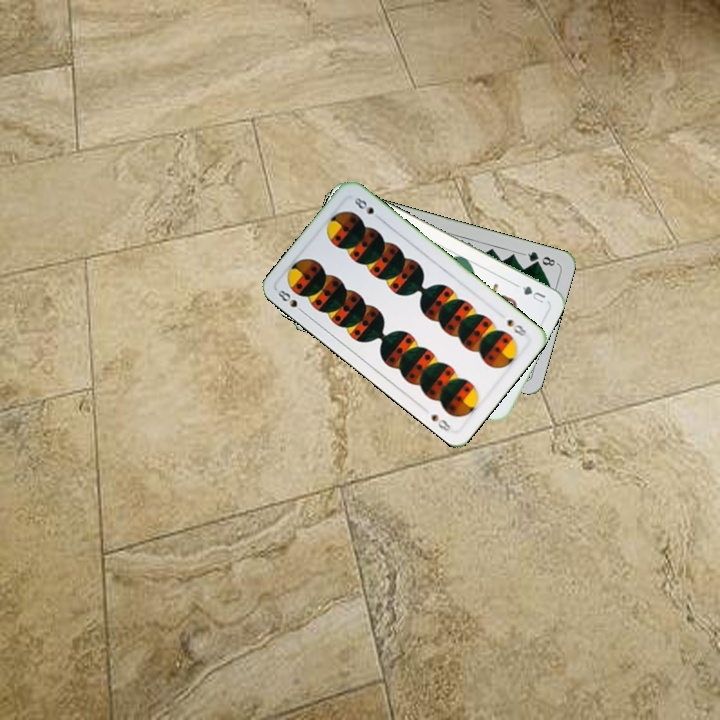G8: (520, 247, 560, 269)
GU: (518, 282, 548, 306)
S8: (274, 286, 308, 317), (503, 315, 529, 339)
